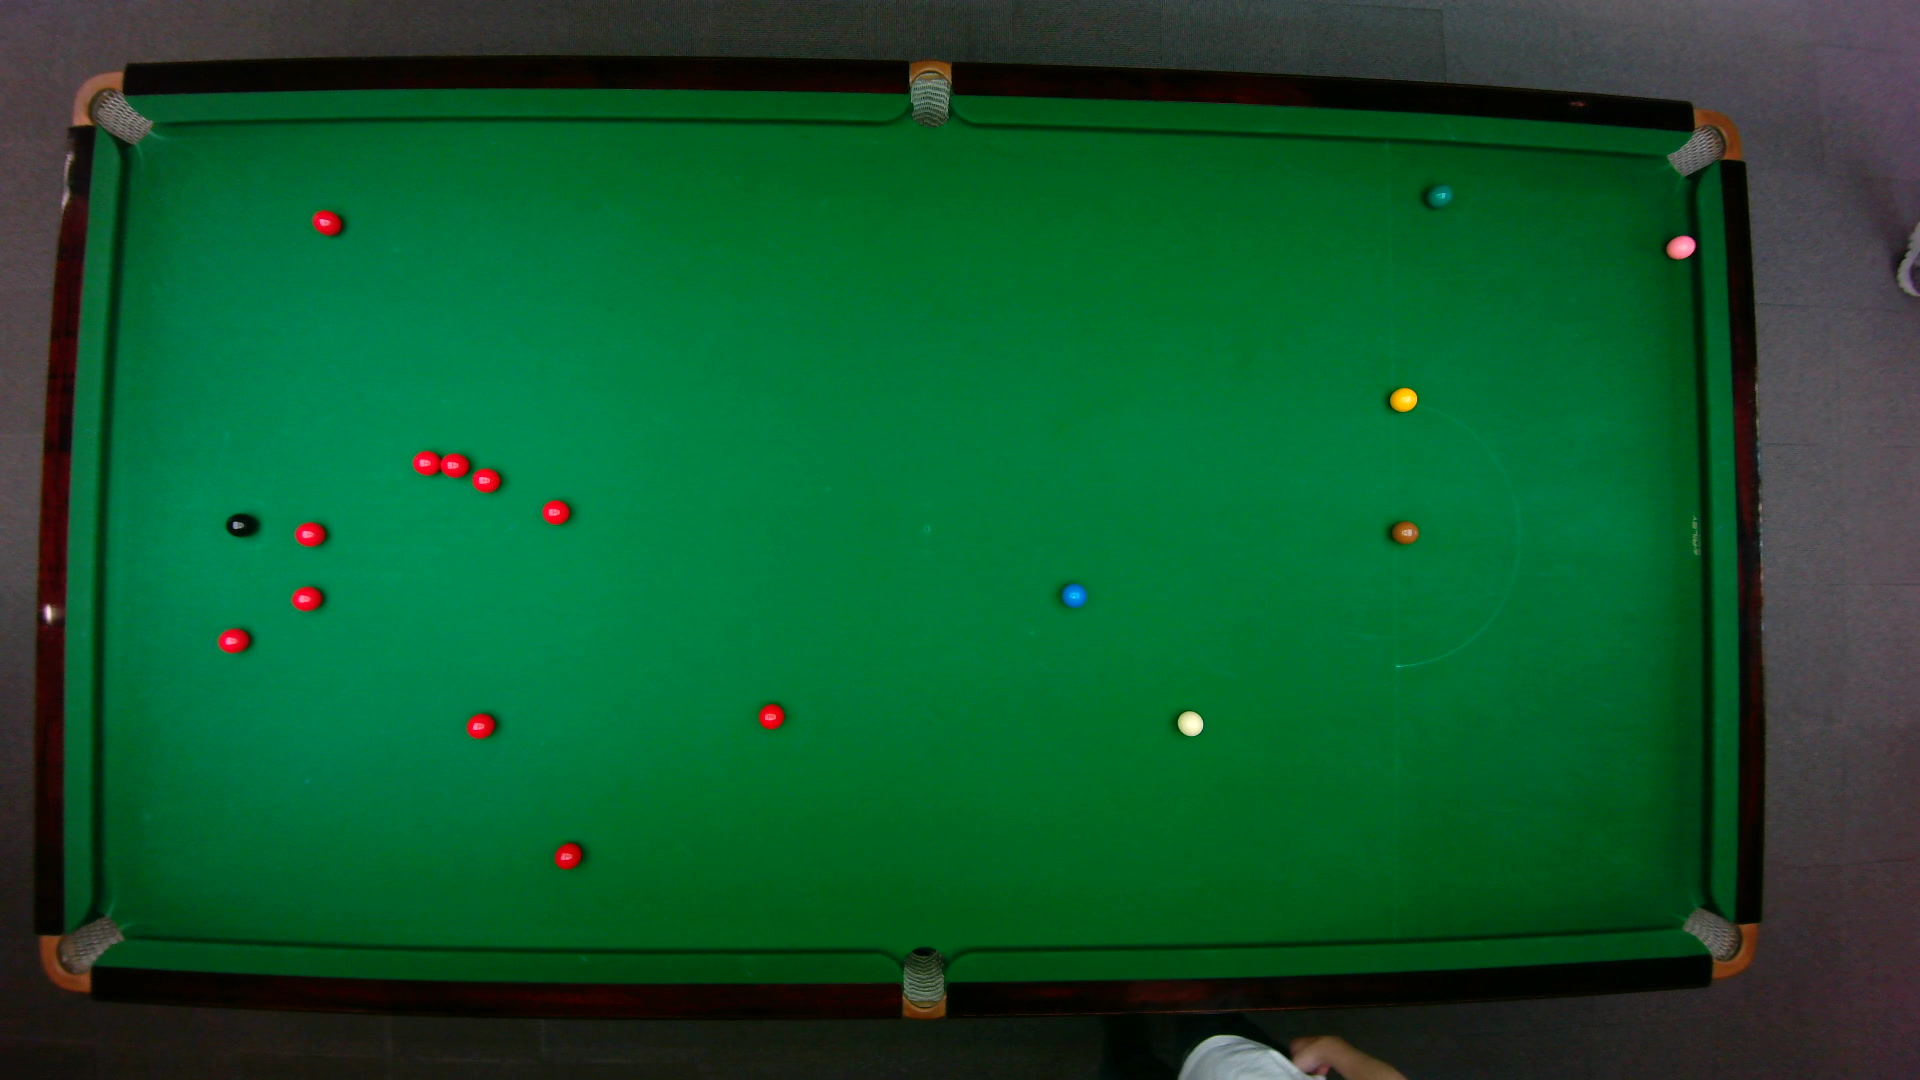bag: (38, 913, 125, 993), (69, 69, 152, 145), (1677, 905, 1756, 978), (1663, 107, 1742, 177), (901, 944, 944, 1021), (909, 57, 951, 128)
black: (223, 512, 255, 537)
blue: (1059, 582, 1087, 608)
brown: (1389, 520, 1419, 545)
green: (1423, 182, 1455, 208)
pink: (1663, 232, 1698, 260)
red: (551, 840, 583, 870), (291, 520, 326, 547), (215, 626, 251, 653), (310, 207, 342, 236), (289, 584, 323, 611), (464, 711, 496, 738), (469, 465, 501, 493), (756, 702, 785, 731), (439, 450, 469, 477), (541, 497, 570, 525), (410, 448, 440, 475)
white: (1174, 708, 1204, 738)
yellow: (1387, 385, 1418, 411)
zone: (1390, 401, 1519, 667)
